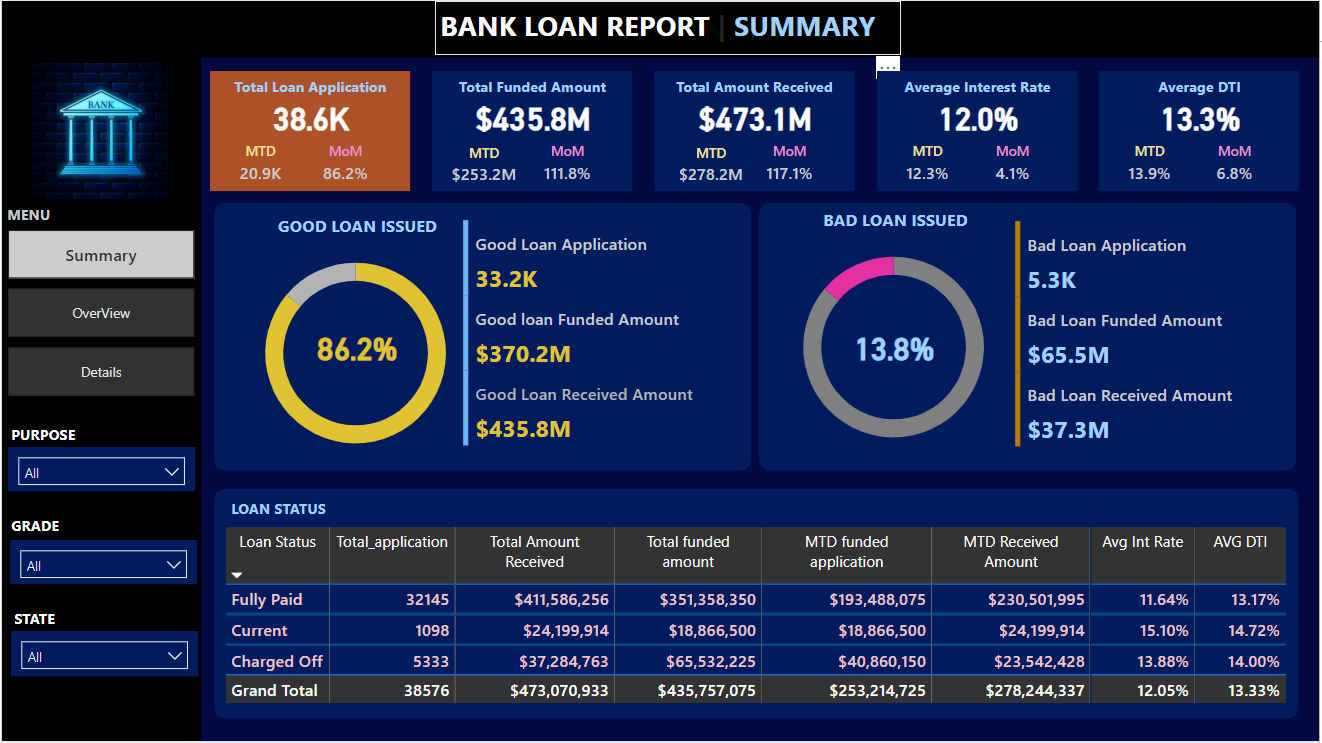

This screenshot's page, from the dashboard's own definition file:
{"tool":"powerbi","page":{"name":"Summary","canvas":[1280,720],"ordinal":0},"visuals":[{"type":"shape","box":[0,0,1280,55],"z":0},{"type":"shape","box":[0,53.5,193.5,666.7],"z":0},{"type":"textbox","box":[421.2,0,452.3,52.5],"z":1000},{"type":"textbox","box":[6.8,584.7,199.2,29.2],"z":1000,"group":"g9"},{"type":"group","id":"g1","title":"Group 1","box":[202.3,68.1,195.5,116.7],"z":2000},{"type":"slicer","fields":{"Values":["Bank_Loan_Data.address_state"]},"box":[8.7,611.9,181.7,43.7],"z":2000,"group":"g9"},{"type":"shape","box":[202.3,68.1,194.5,116.7],"z":3000,"group":"g1"},{"type":"group","id":"g2","title":"Group 1","box":[418.2,68.1,195.5,116.7],"z":3000},{"type":"shape","box":[418.2,68.1,194.5,116.7],"z":3000,"group":"g2"},{"type":"shape","box":[634.2,68.1,194.5,116.7],"z":3000,"group":"g3"},{"type":"shape","box":[850.1,68.1,194.5,116.7],"z":3000,"group":"g4"},{"type":"shape","box":[1066,68.1,194.5,116.7],"z":3000,"group":"g5"},{"type":"slicer","fields":{"Values":["Bank_Loan_Data.purpose"]},"box":[5.8,433.1,181.7,42.8],"z":3000,"group":"g9"},{"type":"group","id":"g3","title":"Group 1","box":[634.2,68.1,195.5,116.7],"z":4000},{"type":"slicer","fields":{"Values":["Bank_Loan_Data.grade"]},"box":[7.8,523.5,181.7,42.8],"z":4000,"group":"g9"},{"type":"group","id":"g4","title":"Group 1","box":[850.1,68.1,195.5,116.7],"z":5000},{"type":"textbox","box":[3.9,494.3,199.2,29.2],"z":5000,"group":"g9"},{"type":"shape","box":[206.2,196.5,522,260],"z":5500,"group":"g6"},{"type":"shape","box":[736,196.8,522.3,259.7],"z":5500,"group":"g7"},{"type":"group","id":"g5","title":"Group 1","box":[1066,68.1,195.5,116.7],"z":6000},{"type":"textbox","box":[3.9,405.9,199.2,29.2],"z":6000,"group":"g9"},{"type":"textbox","box":[0,192.4,199.2,29.2],"z":7000,"group":"g9"},{"type":"group","id":"g6","title":"Group 2","box":[206.2,196.5,522.3,260.7],"z":7000},{"type":"shape","box":[206.2,474.7,1054.3,222.7],"z":7500,"group":"g8"},{"type":"donutChart","fields":{"Category":["Bank_Loan_Data.Good vs Bad loan"],"Y":["Analysis.Total_application"]},"box":[742.2,221.9,250,229.5],"z":7750,"group":"g7"},{"type":"donutChart","fields":{"Category":["Bank_Loan_Data.Good vs Bad loan"],"Y":["Analysis.Total_application"]},"box":[219.2,227.3,250,229.5],"z":7750,"group":"g6"},{"type":"group","id":"g7","title":"Group 3","box":[736,196.5,524.8,260],"z":8000},{"type":"card","fields":{"Values":["Analysis.Total_application"]},"box":[203.3,87.6,194.5,49.6],"z":9000,"group":"g1"},{"type":"card","fields":{"Values":["Analysis.Total funded amount"]},"box":[419.2,87.6,194.5,49.6],"z":9000,"group":"g2"},{"type":"card","fields":{"Values":["Analysis.Total Amount Received"]},"box":[635.2,87.6,194.5,49.6],"z":9000,"group":"g3"},{"type":"card","fields":{"Values":["Analysis.Avg Int Rate"]},"box":[851.1,87.6,194.5,49.6],"z":9000,"group":"g4"},{"type":"card","fields":{"Values":["Analysis.AVG DTI"]},"box":[1067,87.6,194.5,49.6],"z":9000,"group":"g5"},{"type":"group","id":"g8","title":"Group 4","box":[206.2,474.7,1054.3,222.7],"z":9000},{"type":"textbox","box":[742.5,196.5,251.9,33.1],"z":10000,"group":"g7"},{"type":"textbox","box":[219.5,201.9,251.9,33.1],"z":10000,"group":"g6"},{"type":"textbox","box":[217.7,478.2,195.4,29.2],"z":10000},{"type":"tableEx","fields":{"Values":["Bank_Loan_Data.loan_status","Analysis.Total_application","Analysis.Total Amount Received","Analysis.Total funded amount","Analysis.MTD funded application","Analysis.MTD Received Amount","Analysis.Avg Int Rate","Analysis.AVG DTI"]},"box":[211.8,507.1,1040.9,186.6],"z":11000,"group":"g8"},{"type":"pageNavigator","box":[5.8,222.6,181.7,163.3],"z":11001,"group":"g9"},{"type":"image","box":[10.7,55.4,171.1,141.9],"z":12000,"group":"g9"},{"type":"group","id":"g9","title":"Group 5","box":[0,55.4,206,600.3],"z":12001},{"type":"cardVisual","fields":{"Data":["Analysis.Good Loan Application","Analysis.Good loan Funded Amount","Analysis.Good Loan Received Amount"]},"box":[443.5,208.4,281.1,230.5],"z":12002,"group":"g6"},{"type":"cardVisual","fields":{"Data":["Analysis.Bad Loan Application","Analysis.Bad Loan Funded Amount","Analysis.Bad Loan Received Amount"]},"box":[979.7,209.6,281.1,230.5],"z":12002,"group":"g7"},{"type":"textbox","box":[202.3,68.1,195.5,29.2],"z":13000,"group":"g1"},{"type":"textbox","box":[418.2,68.1,195.5,29.2],"z":13000,"group":"g2"},{"type":"textbox","box":[634.2,68.1,195.5,29.2],"z":13000,"group":"g3"},{"type":"textbox","box":[850.1,68.1,195.5,29.2],"z":13000,"group":"g4"},{"type":"textbox","box":[1066,68.1,195.5,29.2],"z":13000,"group":"g5"},{"type":"card","fields":{"Values":["Analysis.Good loan %"]},"box":[282.1,311.3,126.4,49.6],"z":13003,"group":"g6"},{"type":"card","fields":{"Values":["Analysis.Bad Loan %"]},"box":[804.1,311.4,126.4,49.6],"z":13003,"group":"g7"},{"type":"card","title":"MTD","fields":{"Values":["Analysis.MTD Loan Application"]},"box":[217.9,137.2,67.1,47.7],"z":14000,"group":"g1"},{"type":"card","title":"MTD","fields":{"Values":["Analysis.MTD AVG int rate"]},"box":[865.7,137.2,67.1,47.7],"z":14000,"group":"g4"},{"type":"card","title":"MTD","fields":{"Values":["Analysis.MTD AVG DTI"]},"box":[1081.6,137.2,67.1,47.7],"z":14000,"group":"g5"},{"type":"card","title":"MTD","fields":{"Values":["Analysis.MTD funded application"]},"box":[430.7,139,75.9,45.7],"z":14000,"group":"g2"},{"type":"card","title":"MTD","fields":{"Values":["Analysis.MTD Received Amount"]},"box":[650.8,139,77.8,45.7],"z":14000,"group":"g3"},{"type":"card","title":"MoM","fields":{"Values":["Analysis.MoM loan Application"]},"box":[300.5,137.2,67.1,47.7],"z":15000,"group":"g1"},{"type":"card","title":"MoM","fields":{"Values":["Analysis.MoM Funded Amount"]},"box":[516.4,137.2,67.1,47.7],"z":15000,"group":"g2"},{"type":"card","title":"MoM","fields":{"Values":["Analysis.MoM Received Amount"]},"box":[732.4,137.2,67.1,47.7],"z":15000,"group":"g3"},{"type":"card","title":"MoM","fields":{"Values":["Analysis.MoM AVG Int Rate"]},"box":[948.3,137.2,67.1,47.7],"z":15000,"group":"g4"},{"type":"card","title":"MoM","fields":{"Values":["Analysis.MoM AVG DTI"]},"box":[1164.2,137.2,67.1,47.7],"z":15000,"group":"g5"}]}

Visuals, with their boxes in screenshot pixels (x1, y1, x2, y2), scaled from the page's 1280x720 canvas onto the 1322x743 screenshot:
shape: BBox(0, 0, 1321, 57)
shape: BBox(0, 55, 200, 742)
textbox: BBox(435, 0, 902, 54)
textbox: BBox(7, 603, 213, 634)
"Group 1" group: BBox(209, 70, 411, 191)
slicer - Bank_Loan_Data.address_state: BBox(9, 631, 197, 677)
shape: BBox(209, 70, 410, 191)
"Group 1" group: BBox(432, 70, 634, 191)
shape: BBox(432, 70, 633, 191)
shape: BBox(655, 70, 856, 191)
shape: BBox(878, 70, 1079, 191)
shape: BBox(1101, 70, 1302, 191)
slicer - Bank_Loan_Data.purpose: BBox(6, 447, 194, 491)
"Group 1" group: BBox(655, 70, 857, 191)
slicer - Bank_Loan_Data.grade: BBox(8, 540, 196, 584)
"Group 1" group: BBox(878, 70, 1080, 191)
textbox: BBox(4, 510, 210, 540)
shape: BBox(213, 203, 752, 471)
shape: BBox(760, 203, 1300, 471)
"Group 1" group: BBox(1101, 70, 1303, 191)
textbox: BBox(4, 419, 210, 449)
textbox: BBox(0, 199, 206, 229)
"Group 2" group: BBox(213, 203, 752, 472)
shape: BBox(213, 490, 1302, 720)
donutChart - Bank_Loan_Data.Good vs Bad loan x Analysis.Total_application: BBox(767, 229, 1025, 466)
donutChart - Bank_Loan_Data.Good vs Bad loan x Analysis.Total_application: BBox(226, 235, 485, 471)
"Group 3" group: BBox(760, 203, 1302, 471)
card - Analysis.Total_application: BBox(210, 90, 411, 142)
card - Analysis.Total funded amount: BBox(433, 90, 634, 142)
card - Analysis.Total Amount Received: BBox(656, 90, 857, 142)
card - Analysis.Avg Int Rate: BBox(879, 90, 1080, 142)
card - Analysis.AVG DTI: BBox(1102, 90, 1303, 142)
"Group 4" group: BBox(213, 490, 1302, 720)
textbox: BBox(767, 203, 1027, 237)
textbox: BBox(227, 208, 487, 243)
textbox: BBox(225, 493, 427, 524)
tableEx - Bank_Loan_Data.loan_status x Analysis.Total_application: BBox(219, 523, 1294, 716)
pageNavigator: BBox(6, 230, 194, 398)
image: BBox(11, 57, 188, 204)
"Group 5" group: BBox(0, 57, 213, 677)
cardVisual - Analysis.Good Loan Application x Analysis.Good loan Funded Amount: BBox(458, 215, 748, 453)
cardVisual - Analysis.Bad Loan Application x Analysis.Bad Loan Funded Amount: BBox(1012, 216, 1302, 454)
textbox: BBox(209, 70, 411, 100)
textbox: BBox(432, 70, 634, 100)
textbox: BBox(655, 70, 857, 100)
textbox: BBox(878, 70, 1080, 100)
textbox: BBox(1101, 70, 1303, 100)
card - Analysis.Good loan %: BBox(291, 321, 422, 372)
card - Analysis.Bad Loan %: BBox(830, 321, 961, 373)
"MTD" card: BBox(225, 142, 294, 191)
"MTD" card: BBox(894, 142, 963, 191)
"MTD" card: BBox(1117, 142, 1186, 191)
"MTD" card: BBox(445, 143, 523, 191)
"MTD" card: BBox(672, 143, 753, 191)
"MoM" card: BBox(310, 142, 380, 191)
"MoM" card: BBox(533, 142, 603, 191)
"MoM" card: BBox(756, 142, 826, 191)
"MoM" card: BBox(979, 142, 1049, 191)
"MoM" card: BBox(1202, 142, 1272, 191)
